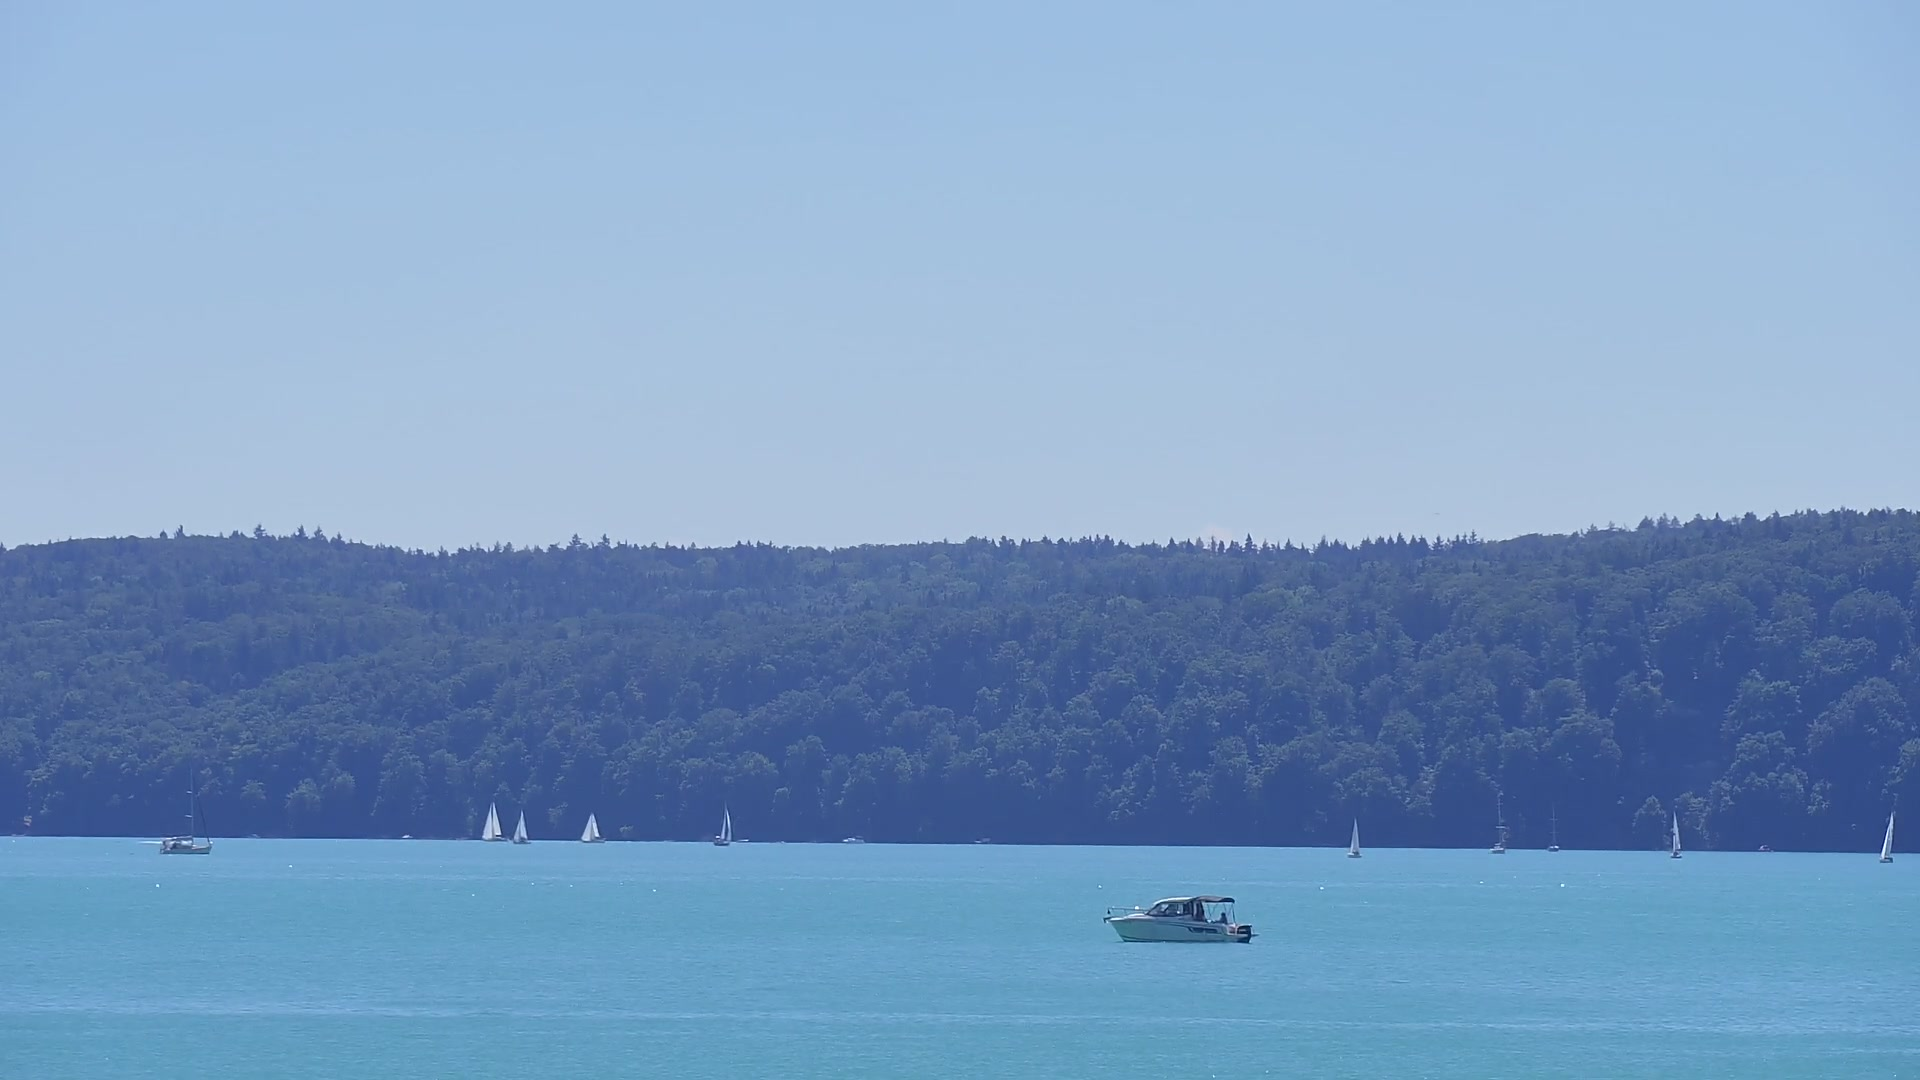sea: (1102, 895, 1259, 944), (160, 765, 214, 855), (480, 800, 506, 843), (1490, 796, 1507, 855), (713, 799, 732, 847), (1878, 810, 1894, 862), (579, 811, 604, 843), (512, 808, 531, 845), (1346, 816, 1364, 858), (1545, 804, 1560, 852), (1669, 811, 1683, 858), (843, 837, 864, 844), (1756, 844, 1771, 853), (975, 837, 992, 844), (401, 833, 413, 839)
